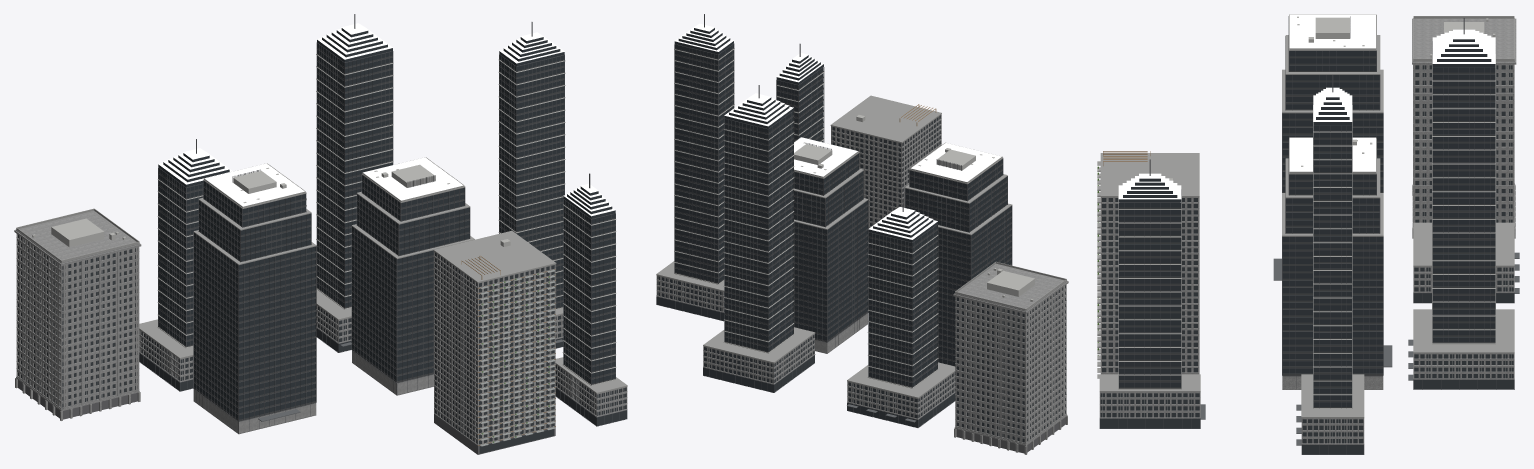
3 views of the same model, side by side, from view 1: azimuth 30°, elevation 25°; view 2: azimuth 150°, elevation 25°; view 3: azimuth 270°, elevation 25° (orthographic). The views are drawn at different scales.
Visible parts, largest first — view 1: City16__C16Glass, City16__C16Alu, City16__C16Spandrel, City16__C16Stone, City16__WindowGlass, City16__C16Render, City16__C16Coping, City16__C16Light, City16__C16Band, City16__C16Panel, City16__C16Plant, City16__C16Rail (+5 smaller); view 2: City16__C16Glass, City16__C16Alu, City16__C16Spandrel, City16__C16Stone, City16__WindowGlass, City16__C16Coping, City16__C16Band, City16__C16Light, City16__C16Panel, City16__C16Render, City16__C16Plant, City16__C16Frame (+2 smaller); view 3: City16__C16Glass, City16__C16Spandrel, City16__WindowGlass, City16__C16Coping, City16__C16Alu, City16__C16Stone, City16__C16Light, City16__C16Band, City16__C16Panel, City16__C16Render, City16__C16Plant, City16__C16Canopy (+2 smaller).
Boxes of the visible parts, <box> form: City16__C16Glass: <box>158,28,615,419</box>; City16__C16Alu: <box>139,14,626,433</box>; City16__C16Spandrel: <box>158,47,615,421</box>; City16__C16Stone: <box>15,211,433,434</box>; City16__WindowGlass: <box>18,235,627,453</box>; City16__C16Render: <box>434,251,555,445</box>; City16__C16Coping: <box>16,157,627,446</box>; City16__C16Light: <box>158,23,615,216</box>; City16__C16Band: <box>157,54,616,385</box>; City16__C16Panel: <box>139,305,627,417</box>; City16__C16Plant: <box>32,164,553,438</box>; City16__C16Rail: <box>481,270,554,445</box>; City16__C16Glass: <box>674,28,1011,386</box>; City16__C16Alu: <box>656,14,1012,427</box>; City16__C16Spandrel: <box>675,48,1011,387</box>; City16__C16Stone: <box>815,263,1067,444</box>; City16__WindowGlass: <box>656,115,1065,442</box>; City16__C16Coping: <box>656,95,1066,398</box>; City16__C16Band: <box>674,48,938,388</box>; City16__C16Light: <box>675,23,1001,239</box>; City16__C16Panel: <box>656,275,955,419</box>; City16__C16Render: <box>831,114,941,228</box>; City16__C16Plant: <box>794,115,1034,301</box>; City16__C16Frame: <box>658,276,1064,441</box>; City16__C16Glass: <box>1119,39,1495,407</box>; City16__C16Spandrel: <box>1119,56,1495,407</box>; City16__WindowGlass: <box>1100,65,1514,454</box>; City16__C16Coping: <box>1097,14,1514,418</box>; City16__C16Alu: <box>1099,16,1514,454</box>; City16__C16Stone: <box>1282,18,1514,389</box>; City16__C16Light: <box>1118,14,1495,199</box>; City16__C16Band: <box>1118,54,1495,408</box>; City16__C16Panel: <box>1099,266,1514,444</box>; City16__C16Render: <box>1100,197,1199,374</box>; City16__C16Plant: <box>1099,16,1495,371</box>; City16__C16Canopy: <box>1200,252,1519,445</box>.
Size of the model in its own units: 274 by 176 by 188.
19 materials, 4 textured.
